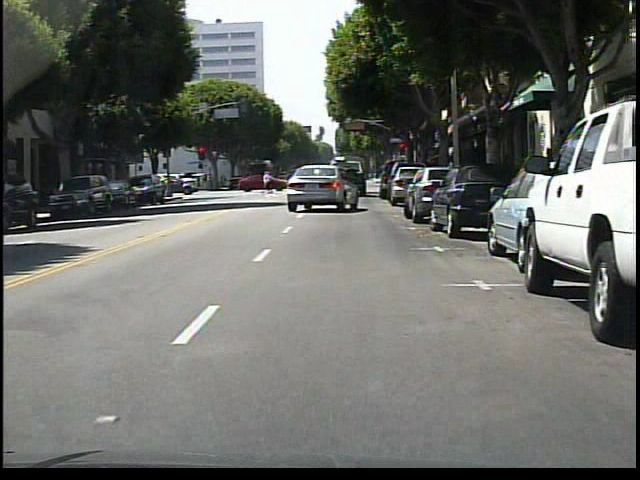person: (538, 146, 564, 203), (262, 170, 274, 194), (286, 167, 296, 194), (263, 172, 269, 188)
